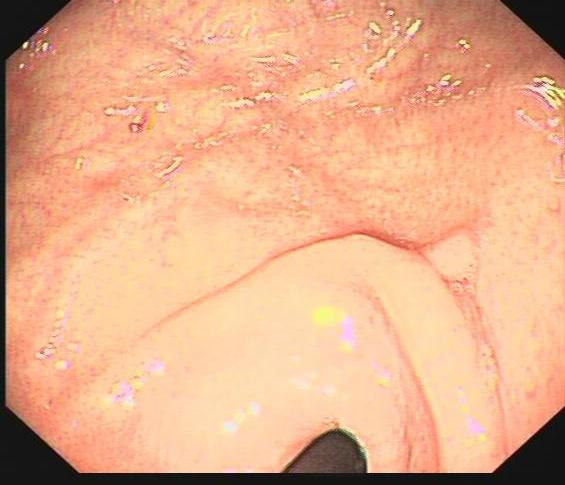Polyp: (419, 227, 476, 283)
